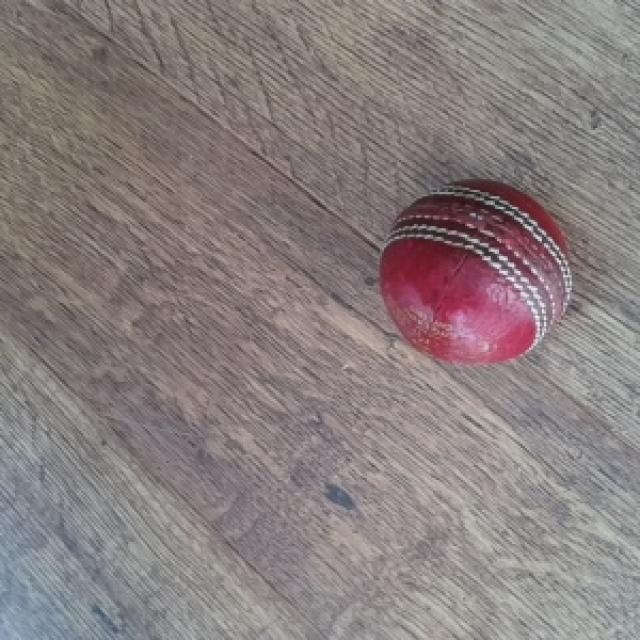ball: (386, 174, 574, 366)
